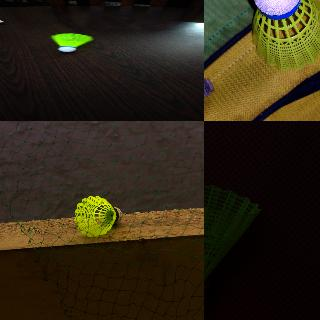shuttlecock: (204, 179, 261, 312), (250, 0, 319, 72), (75, 196, 122, 237), (51, 33, 92, 52)
